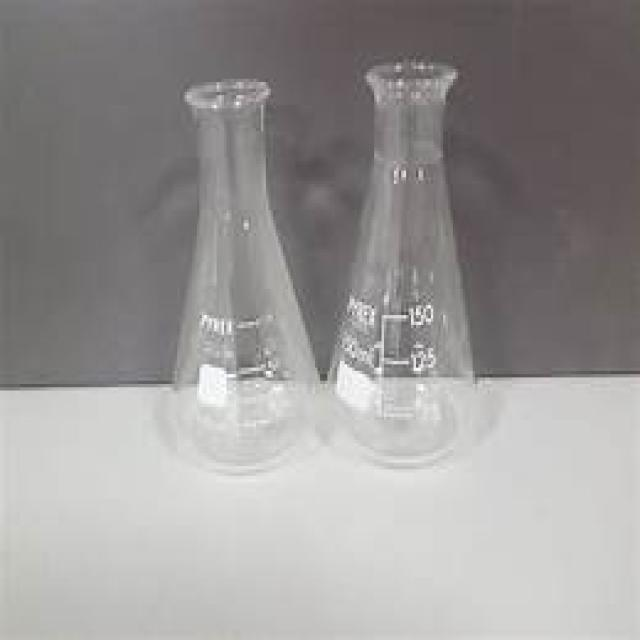Titrarion: (125, 73, 319, 473), (310, 60, 491, 470)
